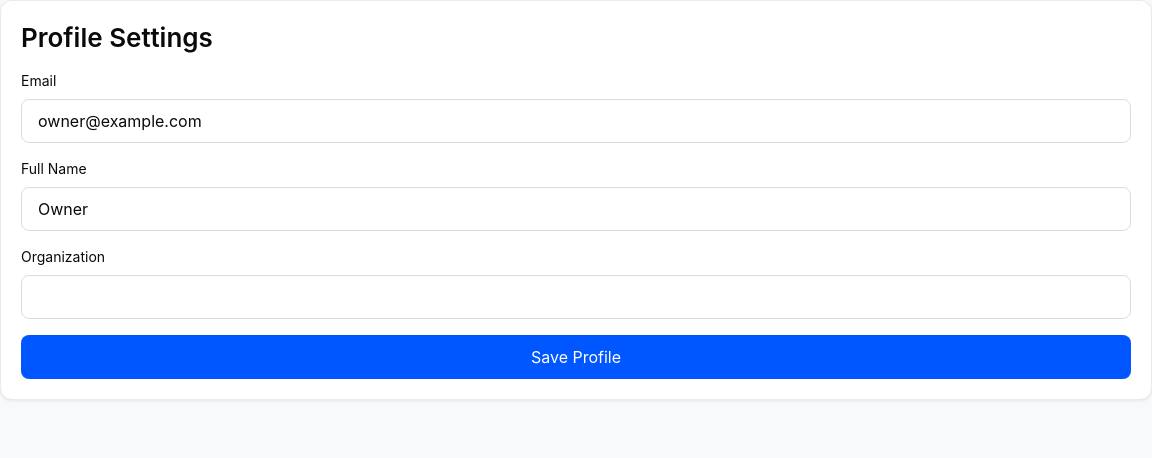
Scenario: persists display metadata without changing authorization metadata
The image size is (1152, 458).
Replace the text in the field labelled "Full Name" with "New Name": (576, 209) top-left (21, 187), bottom-right (1131, 231)
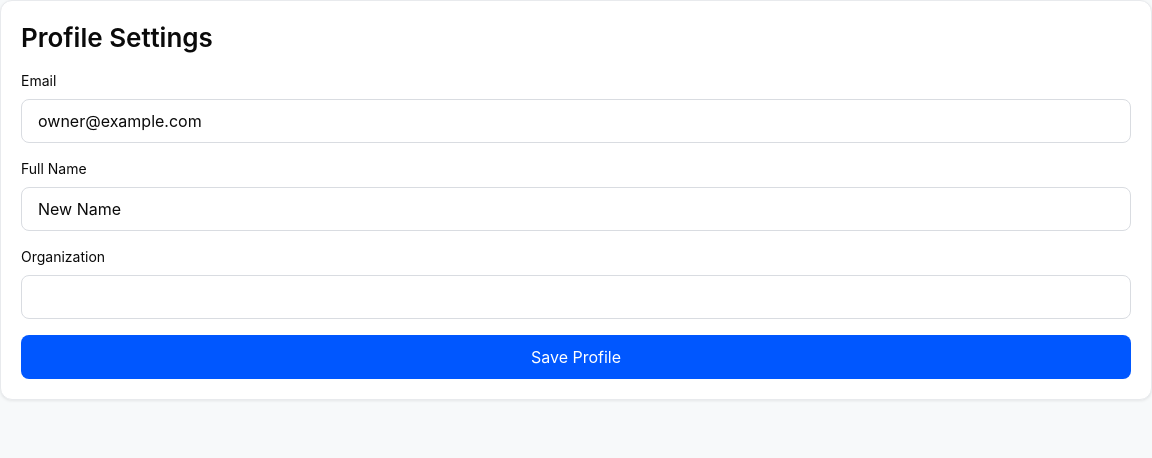
Click the button "Save Profile": (576, 357) top-left (21, 335), bottom-right (1131, 379)
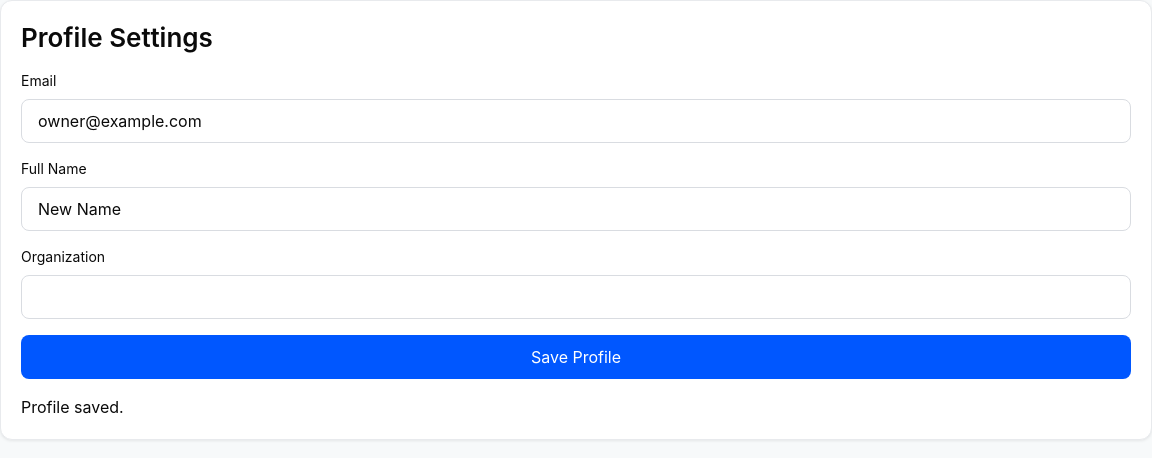
Check: the message shows "Profile saved", box top-left (21, 397), bottom-right (124, 417)
